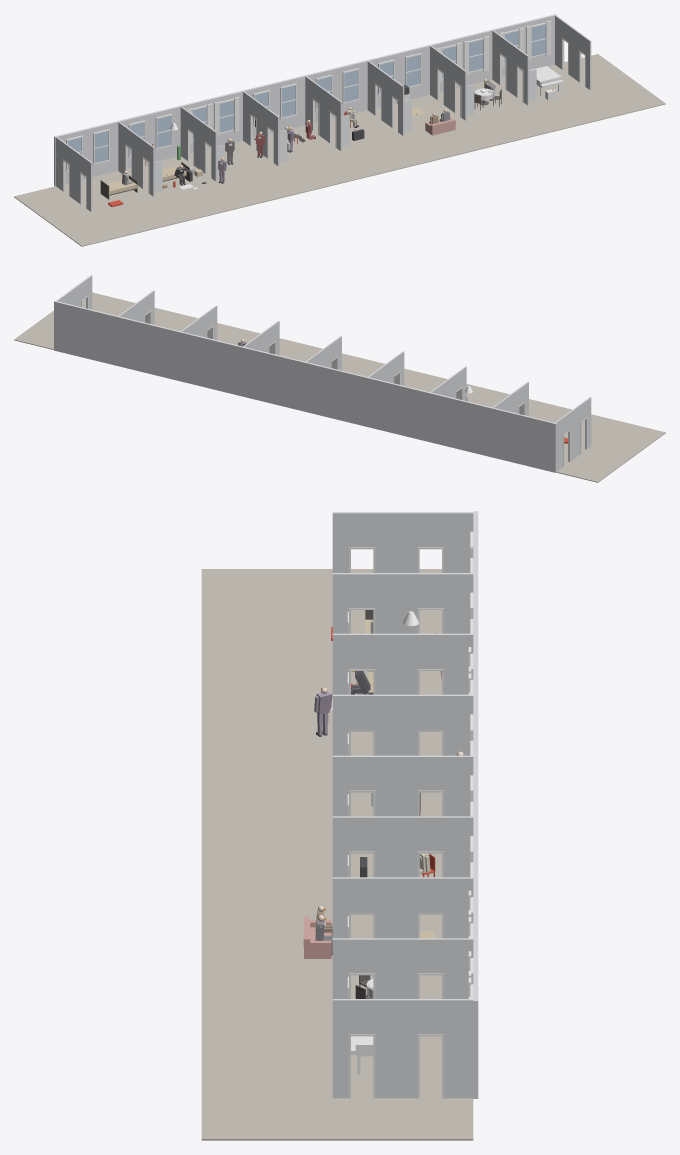
3 views of the same model, one above another, from view 1: azimuth 30°, elevation 25°; view 2: azimuth 150°, elevation 25°; view 3: azimuth 270°, elevation 25° (orthographic). The views are drawn at different scales.
Parts seen in each view (by area): view 1: Floor, BackWall, Partition0_seg1, Partition8_seg1, Partition5_seg1, Partition4_seg1, Partition6_seg1, Partition7_seg1, Partition2_seg1, Partition1_seg1, Partition3_seg1, Window_r1_1 (+16 smaller); view 2: BackWall, Floor, Partition0_seg1, Partition0_seg2; view 3: Floor, Partition8_seg1, BackWall, Partition8_seg2, Partition2_seg1, Partition3_seg1, Partition4_seg1, Partition5_seg1, Partition6_seg1, Partition0_seg1, Partition7_seg1, Partition1_seg1 (+35 smaller).
Part boxes in pixels (x1,y1,x2,y2): Floor: (14,54,665,246); BackWall: (54,14,556,186); Partition0_seg1: (69,147,81,203); Partition8_seg1: (568,25,580,81); Partition5_seg1: (381,71,393,127); Partition4_seg1: (319,86,330,142); Partition6_seg1: (444,56,455,112); Partition7_seg1: (506,40,517,96); Partition2_seg1: (194,116,205,173); Partition1_seg1: (132,132,143,188); Partition3_seg1: (257,101,268,157); Window_r1_1: (219,100,233,132); BackWall: (54,300,556,472); Floor: (14,292,665,482); Partition0_seg1: (569,404,580,461); Partition0_seg2: (555,417,563,470); Floor: (201,569,473,1140); Partition8_seg1: (375,999,417,1098); BackWall: (473,511,478,1098); Partition8_seg2: (444,999,473,1098); Partition2_seg1: (375,633,417,694); Partition3_seg1: (375,694,417,755); Partition4_seg1: (375,755,417,816); Partition5_seg1: (375,816,417,877); Partition6_seg1: (375,877,417,938); Partition0_seg1: (375,512,417,572); Partition7_seg1: (375,938,417,998); Partition1_seg1: (375,573,417,633).
Bounding box in the file's own units: 41.2 × 3.37 × 8.45.
